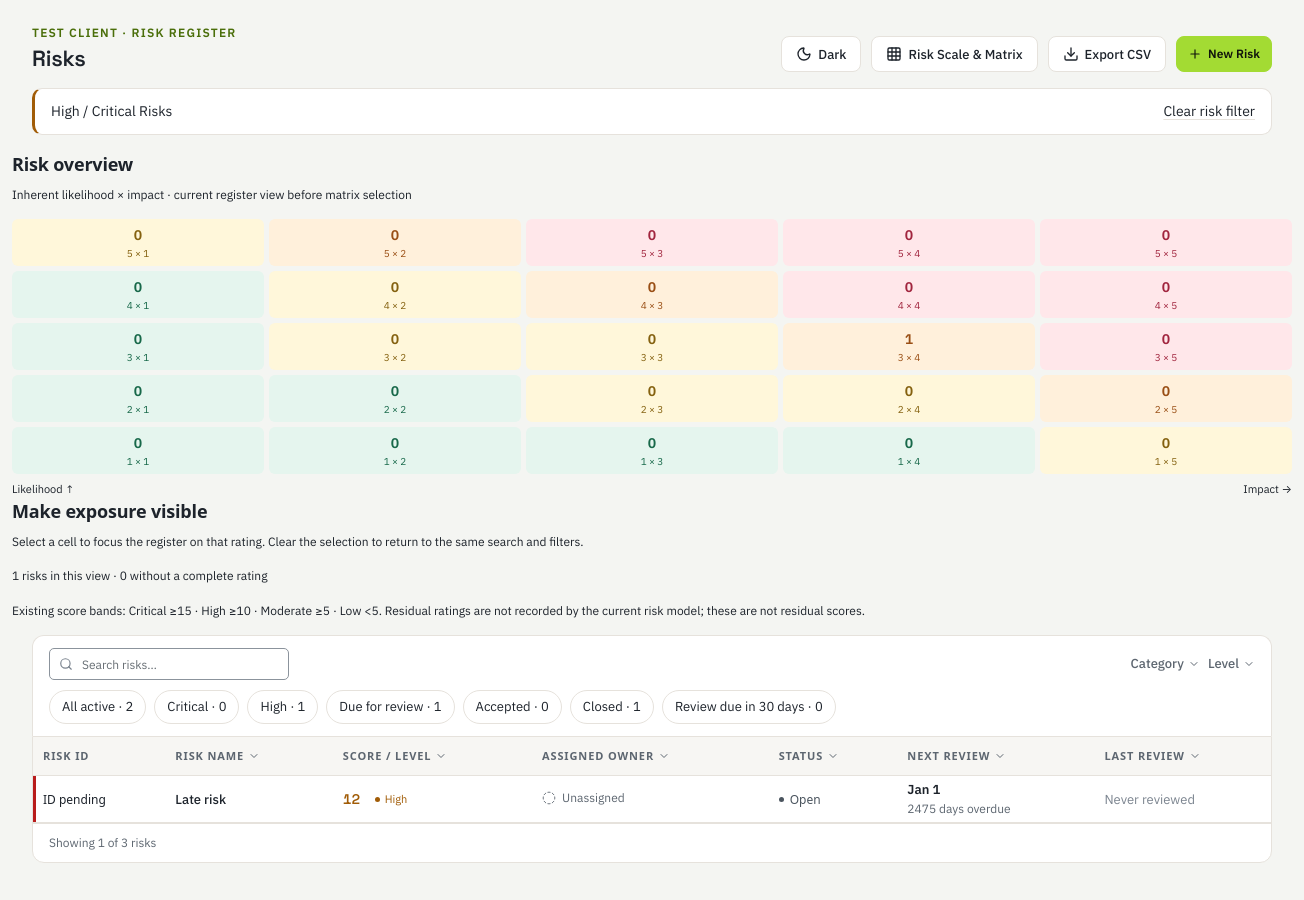
retained significant-risk deep link visibly explains its scope and can be cleared
Expected: the message with test id "significant-risk-filter" shows "High / Critical Risks", [51,102,172,120]
Expected: the text "Undated risk" is not shown
Click the button "Clear risk filter".
click(1209, 112)  # box [1163,101,1255,122]
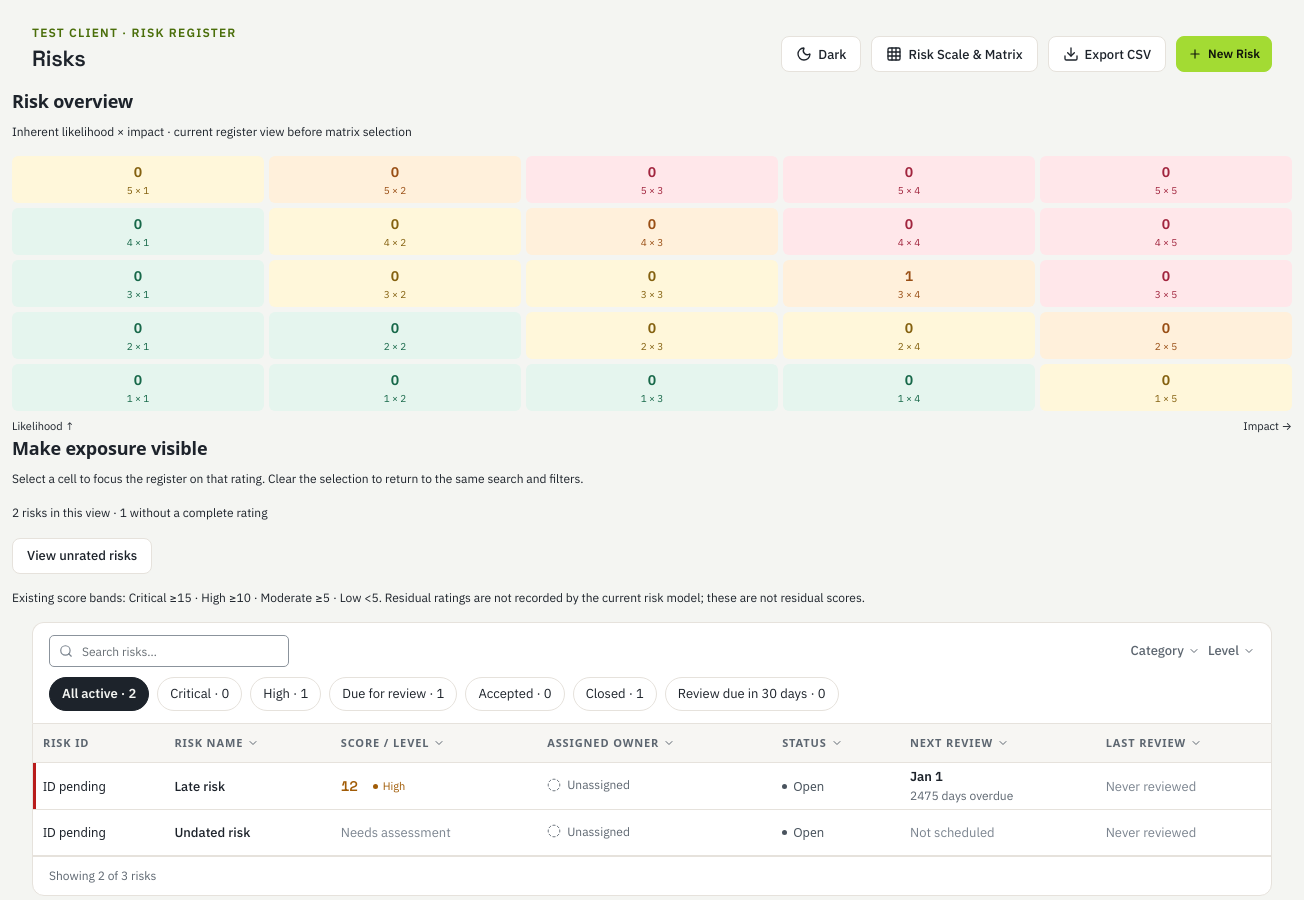
Now the message with test id "significant-risk-filter" is gone
Now the table shows "Undated risk", box [174,819,250,847]
